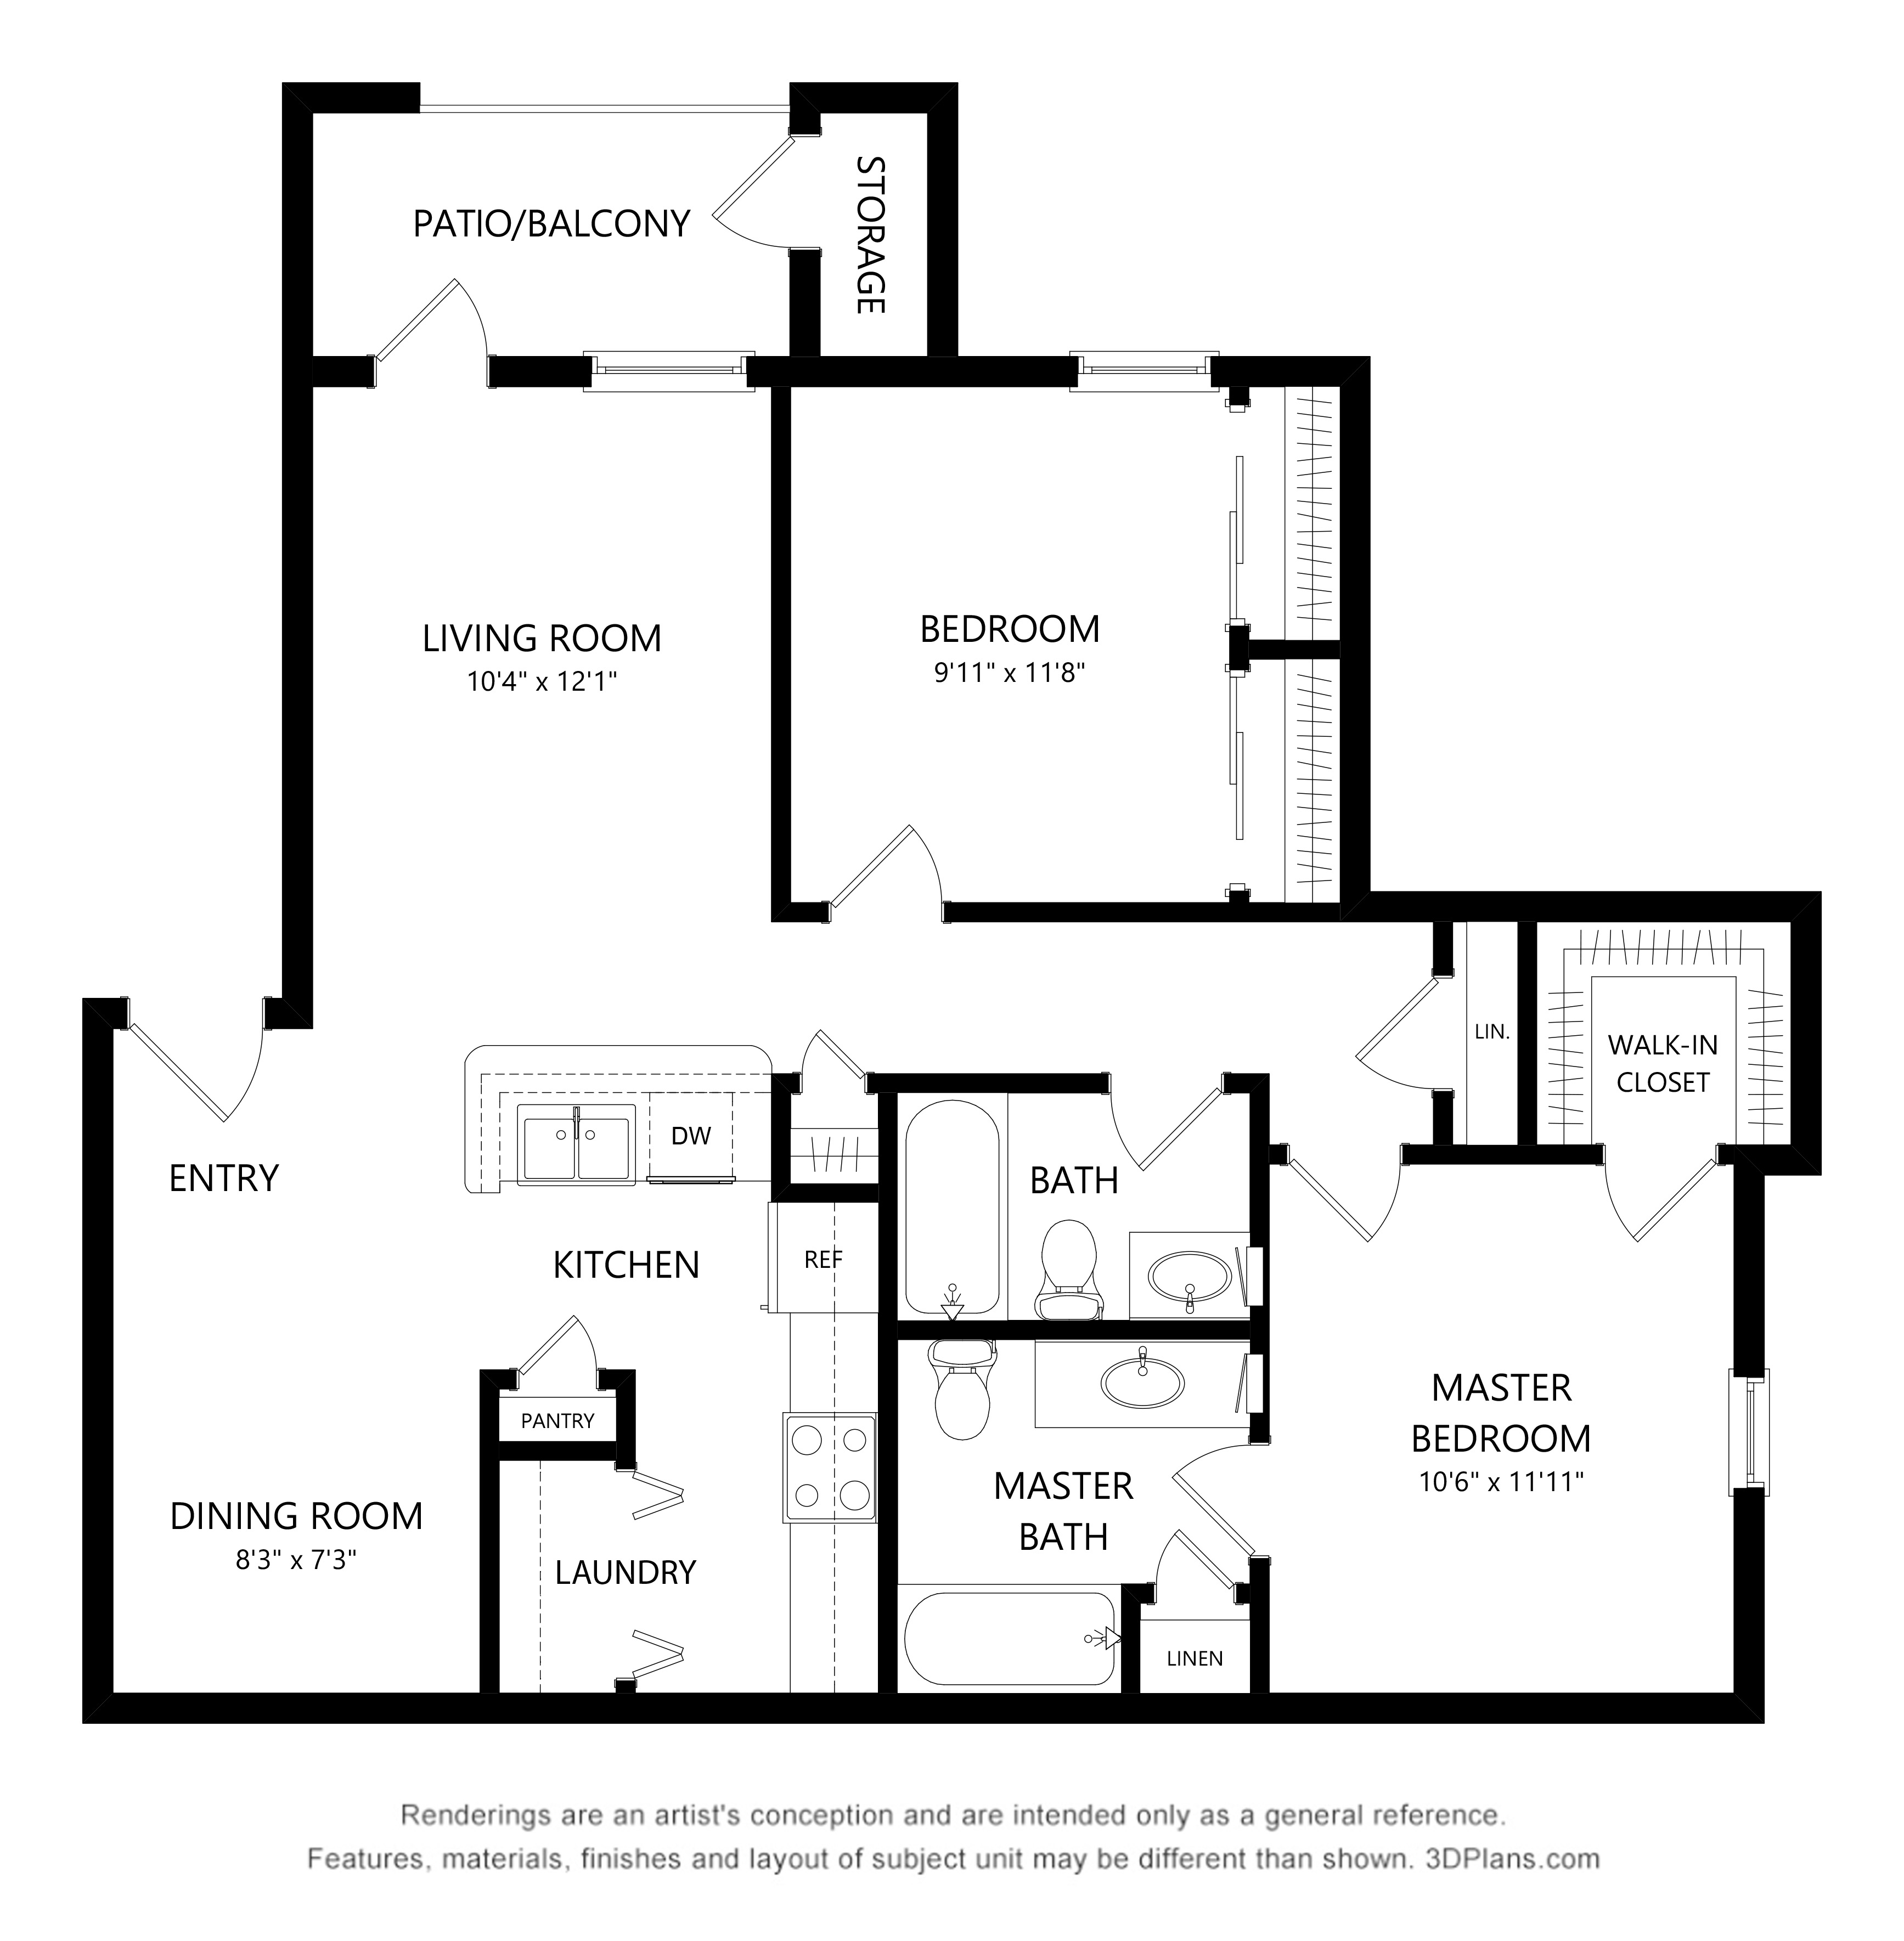room: (279, 349, 1372, 921), (760, 354, 1377, 933), (1257, 1148, 1771, 1728), (87, 1059, 497, 1721), (891, 1318, 1275, 1721), (485, 1364, 903, 1709), (527, 1092, 879, 1411), (1526, 893, 1820, 1165), (915, 1100, 1247, 1320)
